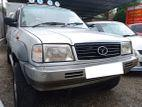car: (3, 3, 135, 107)
